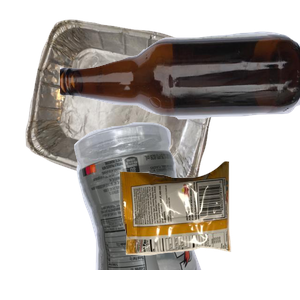glass: (60, 29, 300, 141)
metal: (23, 17, 236, 197)
plastic: (71, 120, 265, 300)
trash: (117, 159, 300, 300)
